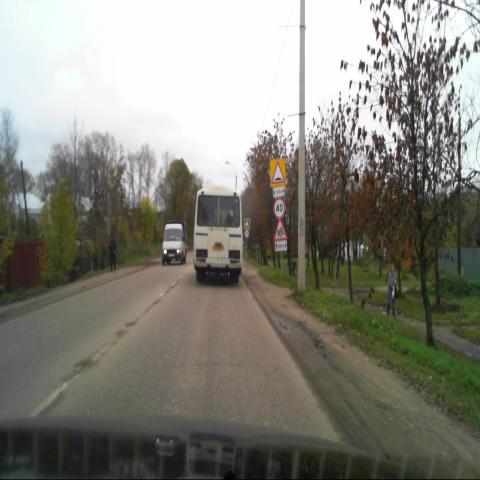1_17: (269, 158, 286, 187)
